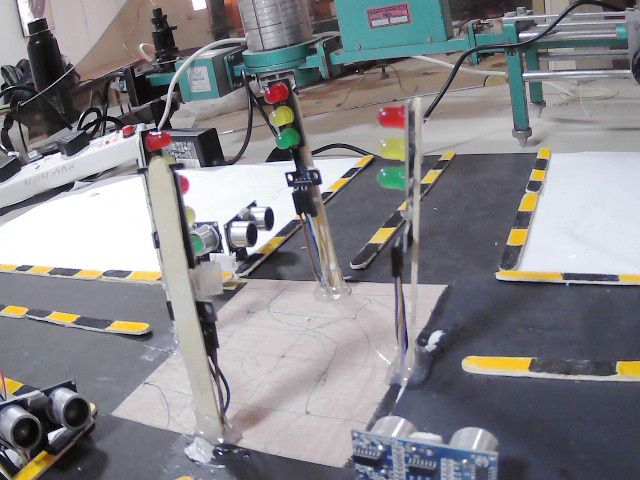black_strip: (524, 351, 607, 379), (532, 354, 610, 373), (563, 269, 616, 285), (493, 244, 523, 271), (352, 242, 375, 271), (75, 316, 113, 333), (27, 304, 48, 321), (516, 211, 534, 229), (526, 179, 545, 194)
mixed_lane: (495, 130, 640, 283), (465, 347, 640, 378), (233, 208, 307, 277), (0, 302, 145, 335), (0, 261, 175, 287), (324, 151, 376, 201)
traffic_light: (162, 132, 206, 232), (380, 102, 412, 191), (266, 80, 301, 153)
uno_breadboard: (359, 424, 502, 478), (0, 391, 84, 457), (233, 200, 275, 245), (195, 221, 222, 258)
yellow_strip: (466, 353, 524, 374), (493, 269, 563, 281), (611, 357, 639, 380), (509, 221, 532, 248), (373, 218, 396, 244), (264, 233, 288, 256), (114, 317, 143, 335), (48, 310, 77, 328), (518, 191, 537, 215), (1, 302, 28, 318), (331, 175, 350, 195), (617, 272, 640, 287), (76, 266, 96, 283), (529, 166, 547, 182), (421, 165, 437, 183), (133, 268, 156, 280), (359, 151, 377, 166), (397, 196, 411, 213), (535, 146, 549, 161), (32, 261, 48, 273), (0, 262, 18, 271), (444, 148, 455, 161)
